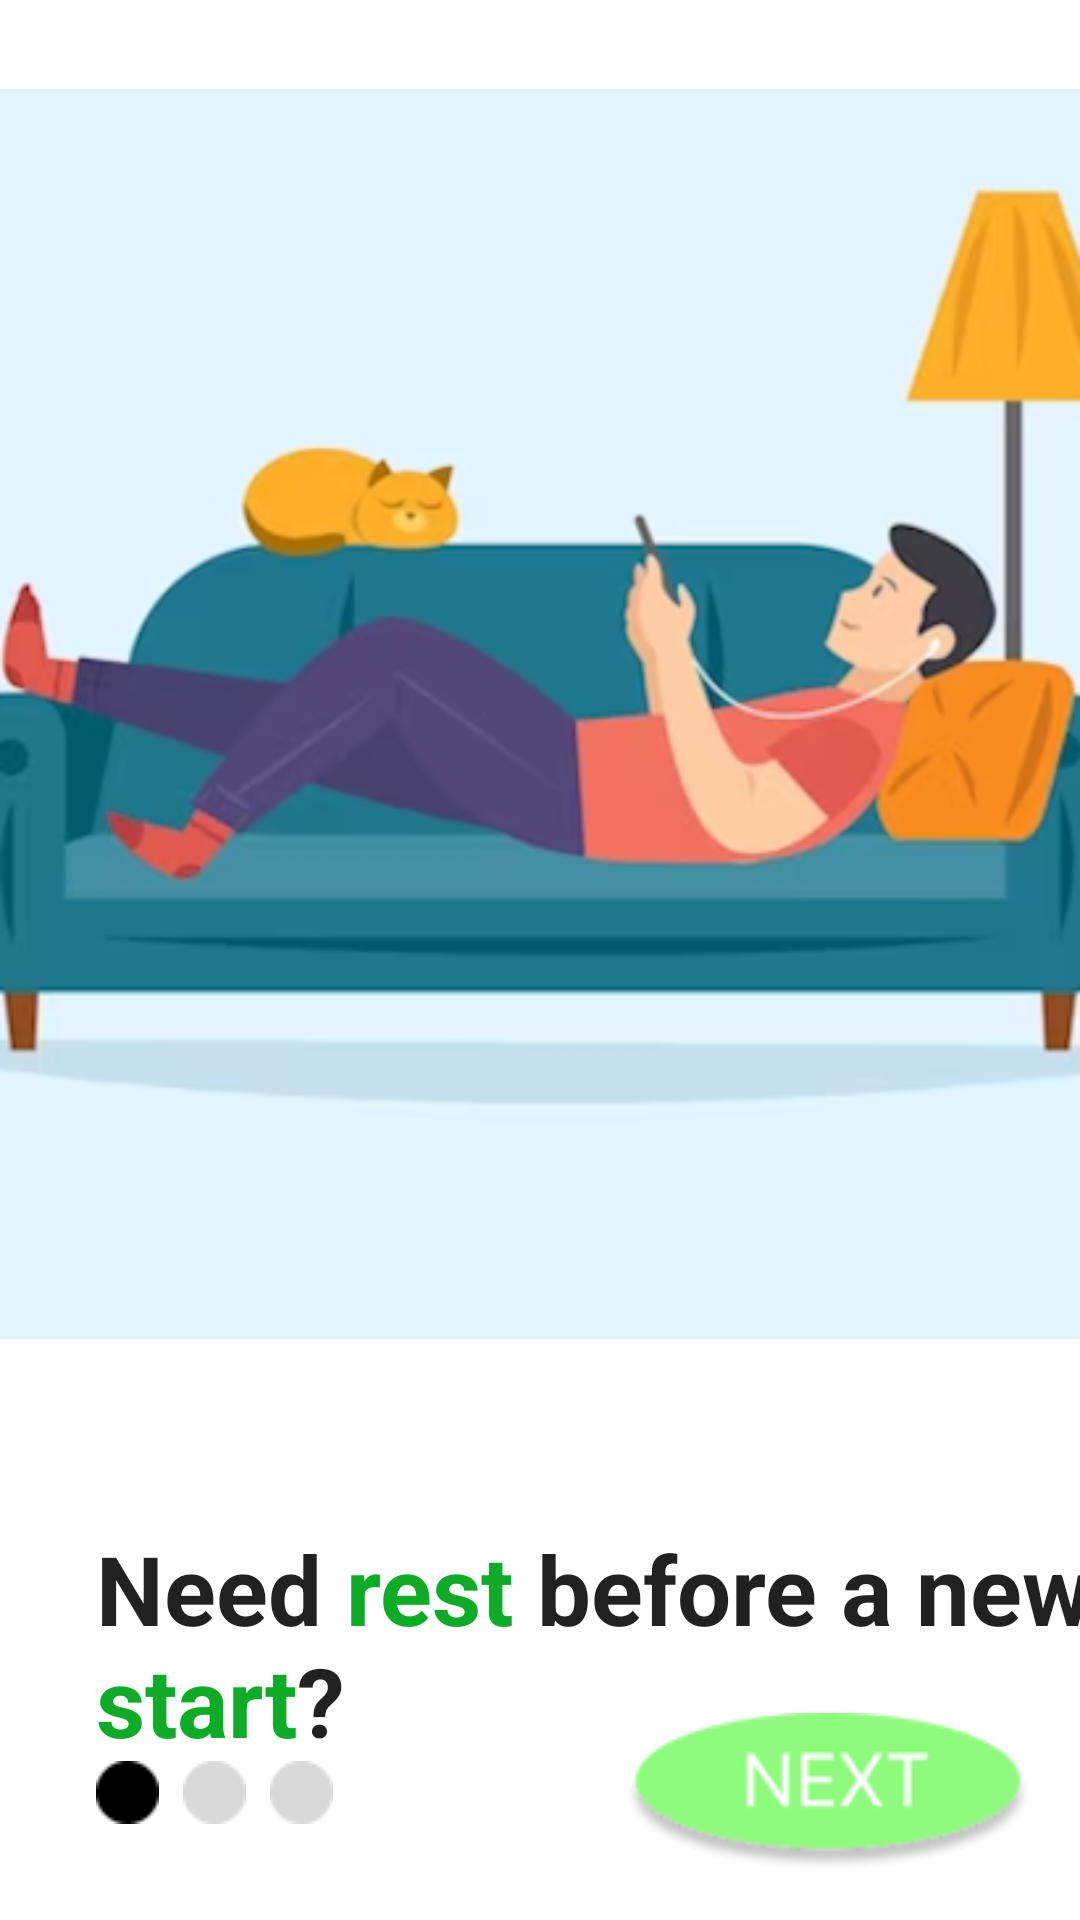

Point at icon controls on the screen. Image size 1080w x 1920h, points as [x,y].
dot: [127,1792]
